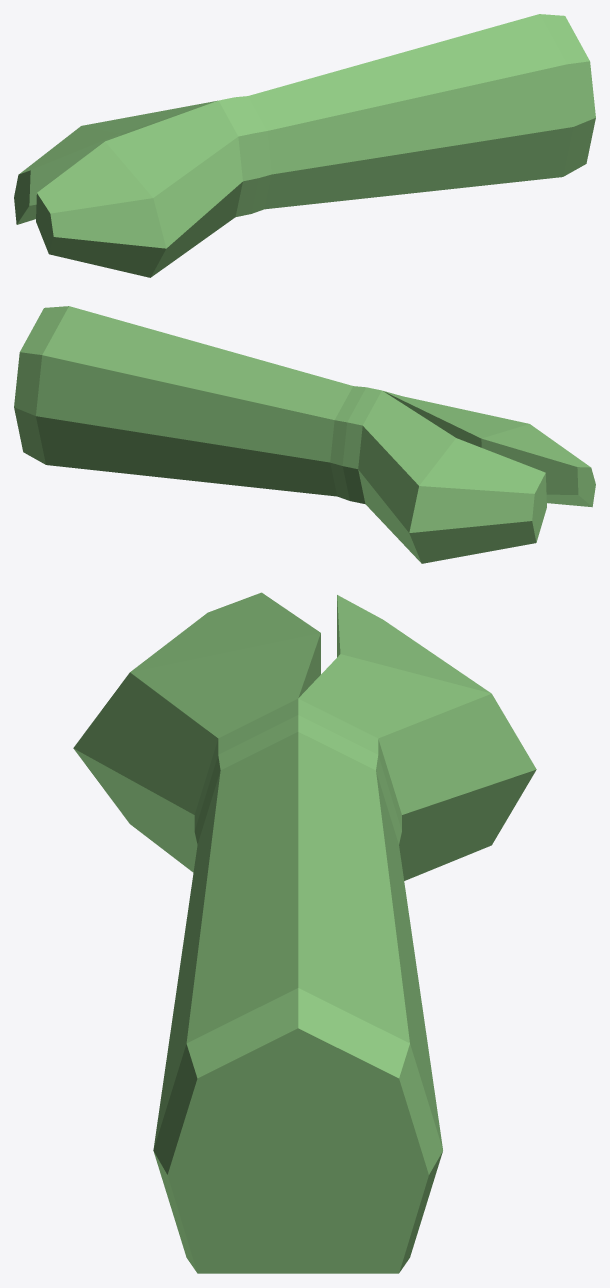
File: RightArm.fbx
The picture shows the model from 3 angles, top to bottom: view 1: azimuth 30°, elevation 25°; view 2: azimuth 150°, elevation 25°; view 3: azimuth 270°, elevation 25°; orthographic projection. The views are drawn at different scales.
Visible parts, largest first — view 1: RightArm; view 2: RightArm; view 3: RightArm.
Boxes of the visible parts, <box> form: RightArm: <box>14,14,595,277</box>; RightArm: <box>14,306,595,563</box>; RightArm: <box>73,592,536,1273</box>.
Bounding box in the file's own units: 167 × 41.54 × 63.53.
